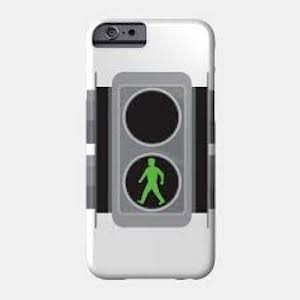green: (129, 156, 174, 205)
